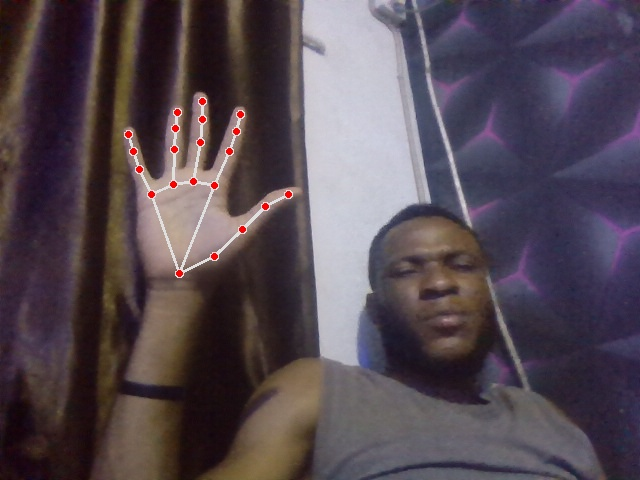no: (123, 90, 305, 283)
